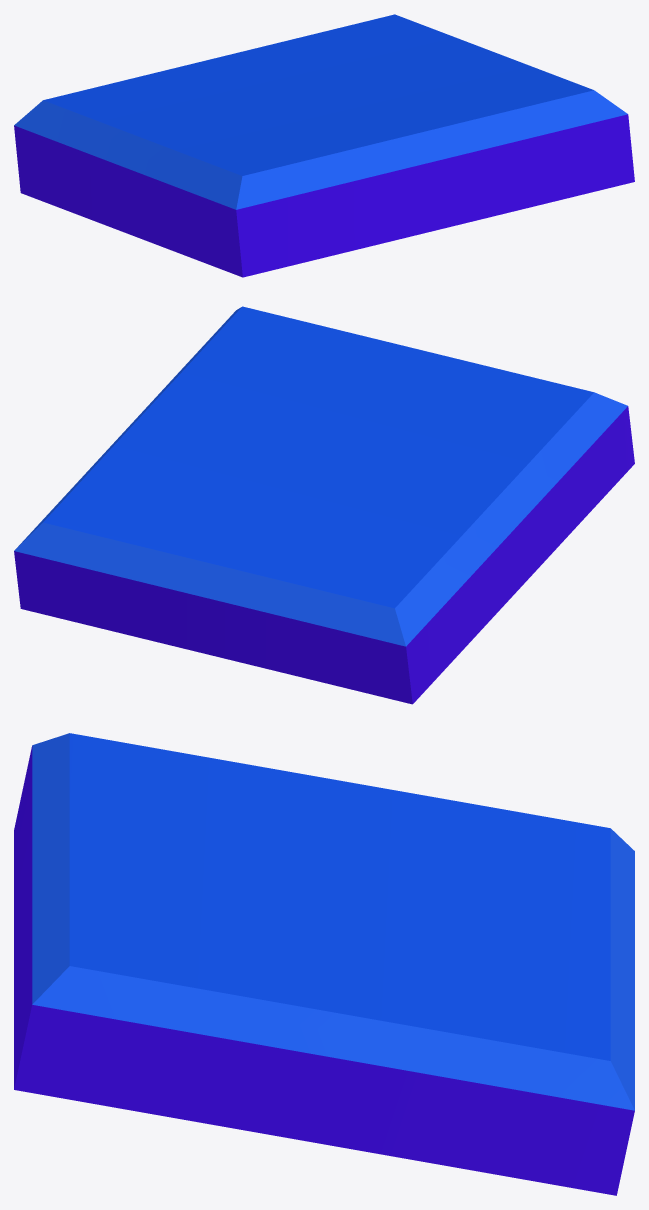
Rendered from ButtonI.glb.
3 views of the same model, one above another, from view 1: azimuth 30°, elevation 25°; view 2: azimuth 150°, elevation 25°; view 3: azimuth 270°, elevation 25° (orthographic). The views are drawn at different scales.
Parts seen in each view (by area): view 1: ButtonI; view 2: ButtonI; view 3: ButtonI.
Boxes of the visible parts, left/top/right/bottom form: ButtonI: left=14, top=14, right=634, bottom=277; ButtonI: left=14, top=306, right=634, bottom=704; ButtonI: left=14, top=733, right=634, bottom=1195.
Size of the model in its own units: 0.5336 by 0.2077 by 0.5397.
1 material, 1 textured.
